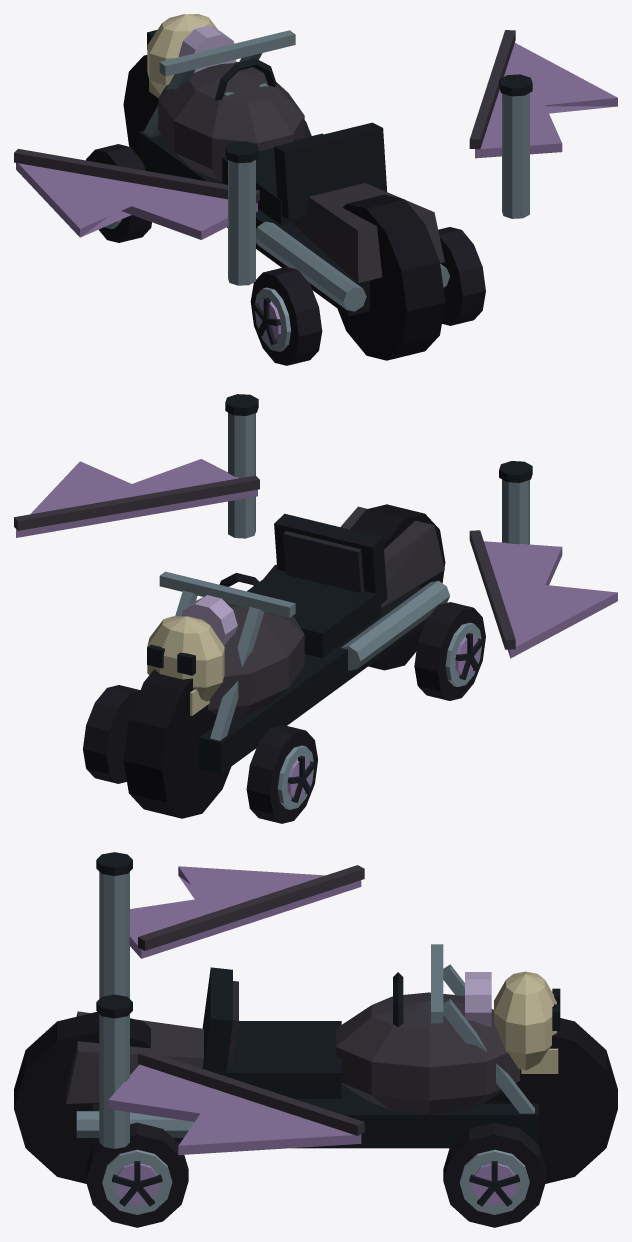
The model's file is kart.glb.
3 renders of one model, top to bottom at view 1: azimuth 30°, elevation 25°; view 2: azimuth 150°, elevation 25°; view 3: azimuth 270°, elevation 25°, orthographic. The views are drawn at different scales.
Visible parts, largest first — view 1: identity-motorbike-motorbike-tank-and-fork, identity-motorbike-motif-dragon-wings, identity-motorbike-driver-cockpit, identity-motorbike-motif-exhaust, wheel-rear-left, wheel-rear-right, identity-motorbike-motif-skull, wheel-front-left; view 2: identity-motorbike-motorbike-tank-and-fork, identity-motorbike-motif-dragon-wings, identity-motorbike-driver-cockpit, identity-motorbike-motif-exhaust, wheel-rear-left, wheel-front-left, identity-motorbike-motif-skull, wheel-front-right; view 3: identity-motorbike-motorbike-tank-and-fork, identity-motorbike-motif-dragon-wings, identity-motorbike-driver-cockpit, identity-motorbike-motif-exhaust, wheel-front-right, wheel-rear-right, identity-motorbike-motif-skull.
Boxes of the visible parts, <box> form: identity-motorbike-motorbike-tank-and-fork: <box>123,25,449,360</box>; identity-motorbike-motif-dragon-wings: <box>14,30,617,239</box>; identity-motorbike-driver-cockpit: <box>215,58,387,225</box>; identity-motorbike-motif-exhaust: <box>225,74,532,285</box>; wheel-rear-left: <box>250,267,322,365</box>; wheel-rear-right: <box>438,227,485,325</box>; identity-motorbike-motif-skull: <box>147,14,217,97</box>; wheel-front-left: <box>86,144,151,242</box>; identity-motorbike-motorbike-tank-and-fork: <box>123,504,449,818</box>; identity-motorbike-motif-dragon-wings: <box>14,459,617,658</box>; identity-motorbike-driver-cockpit: <box>219,513,387,657</box>; identity-motorbike-motif-exhaust: <box>225,394,532,544</box>; wheel-rear-left: <box>414,602,485,700</box>; wheel-front-left: <box>246,725,317,823</box>; identity-motorbike-motif-skull: <box>147,616,224,715</box>; wheel-front-right: <box>83,685,140,783</box>; identity-motorbike-motorbike-tank-and-fork: <box>14,944,617,1183</box>; identity-motorbike-motif-dragon-wings: <box>108,865,364,1154</box>; identity-motorbike-driver-cockpit: <box>202,967,403,1098</box>; identity-motorbike-motif-exhaust: <box>96,852,132,1148</box>; wheel-front-right: <box>443,1122,545,1227</box>; wheel-rear-right: <box>86,1122,188,1227</box>; identity-motorbike-motif-skull: <box>494,971,560,1073</box>.
Size of the model in its own units: 3.22 by 1.33 by 2.94.
